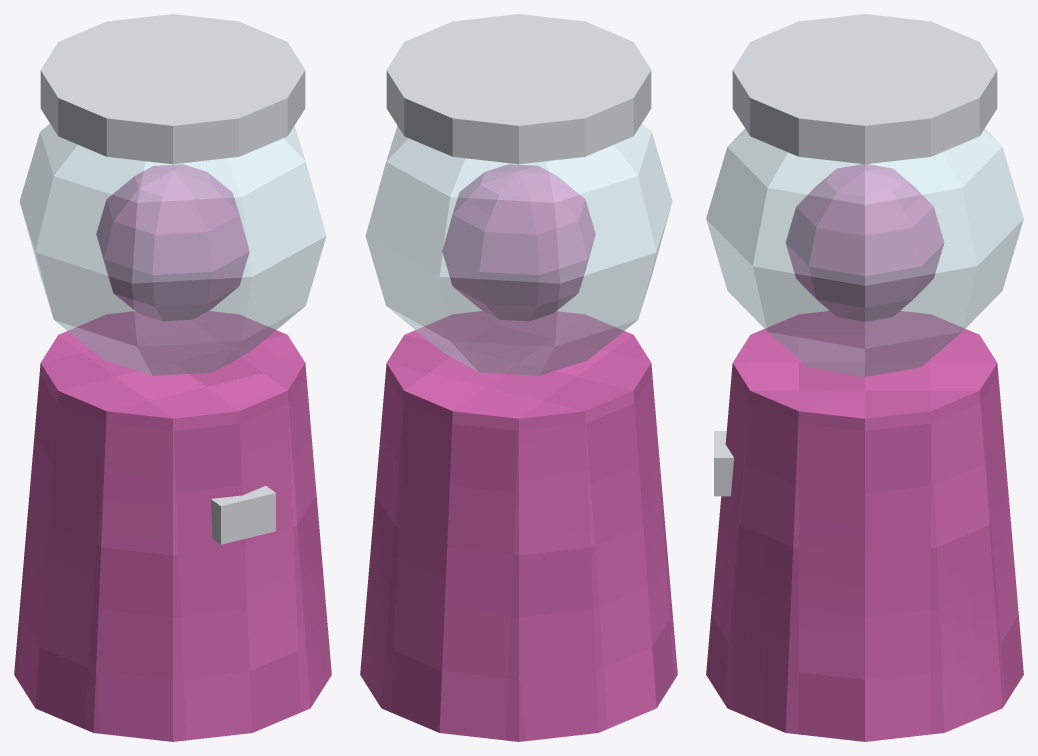
The model's file is retro-arcade-and-mall-1989-gumball-machine-dc54f98b__15544.glb.
3 renders of one model, left to right at view 1: azimuth 30°, elevation 25°; view 2: azimuth 150°, elevation 25°; view 3: azimuth 270°, elevation 25°, orthographic.
Visible parts, largest first — view 1: gumball-machine; view 2: gumball-machine; view 3: gumball-machine.
Part boxes in pixels (x1=…): gumball-machine: x1=14, y1=14, x2=331, y2=741; gumball-machine: x1=360, y1=14, x2=677, y2=741; gumball-machine: x1=706, y1=14, x2=1023, y2=741.
Bounding box in the file's own units: 0.6001 × 1.26 × 0.6001.
Materials: 3 (1 with a texture image).
